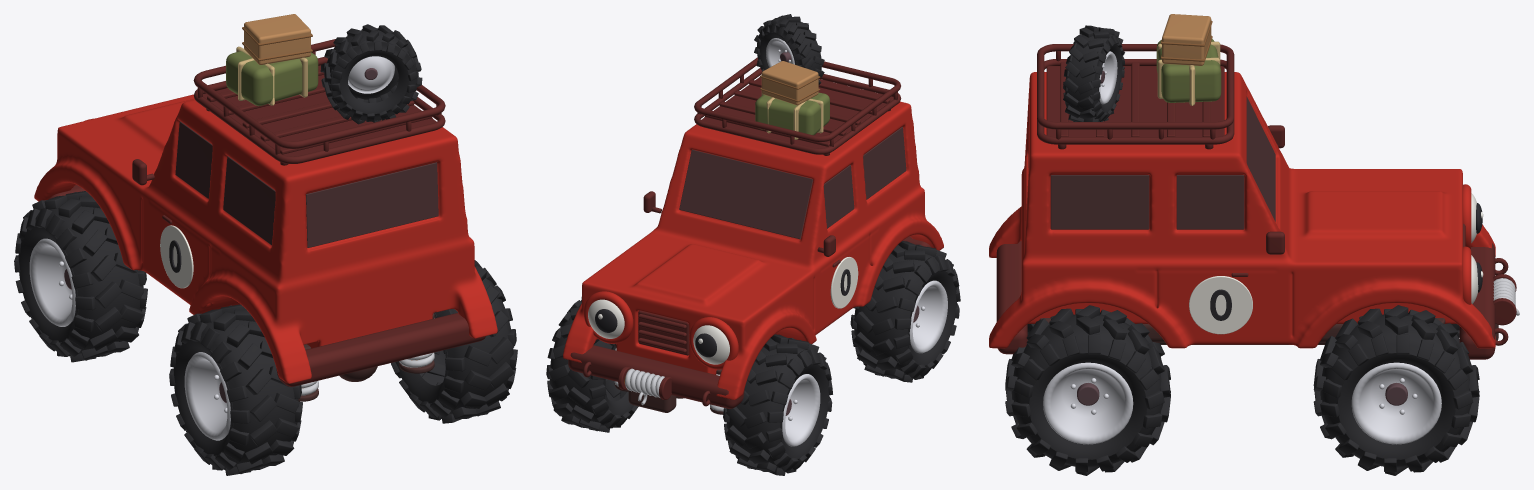
The model's file is red_jeep.glb.
The picture shows the model from 3 angles, left to right: view 1: azimuth 30°, elevation 25°; view 2: azimuth 150°, elevation 25°; view 3: azimuth 270°, elevation 25°; orthographic projection. The views are drawn at different scales.
Parts seen in each view (by area): view 1: car_hero_body.001, car_hero_wheel_FR.001, car_hero_wheel_RR.001, car_hero_wheel_RL.001, window_rear.001, cargo_spare.001, bumper_rear.001, rack_floor.001, cargo_bag.001, car_hero_wheel_FR_rim.001, car_hero_wheel_RR_rim.001, rack_rail_top.001 (+8 smaller); view 2: car_hero_body.001, car_hero_wheel_RR.001, car_hero_wheel_FR.001, windshield.001, car_hero_wheel_FL.001, bumper_front.001, rack_floor.001, rack_rail_top.001, rack_rail_low.001, cargo_spare.001, cargo_bag.001, car_hero_wheel_FR_rim.001 (+13 smaller); view 3: car_hero_body.001, car_hero_wheel_FL.001, car_hero_wheel_RL.001, window_1_-1.001, car_hero_wheel_FL_rim.001, car_hero_wheel_RL_rim.001, rack_floor.001, cargo_spare.001, window_1_-0.001, rack_rail_top.001, decal_disc_1.001, cargo_bag.001 (+7 smaller).
Boxes of the visible parts, left/top/right/bottom form: car_hero_body.001: left=34, top=94, right=497, bottom=383; car_hero_wheel_FR.001: left=14, top=191, right=147, bottom=362; car_hero_wheel_RR.001: left=169, top=304, right=302, bottom=475; car_hero_wheel_RL.001: left=391, top=260, right=517, bottom=423; window_rear.001: left=306, top=162, right=438, bottom=247; cargo_spare.001: left=320, top=24, right=422, bottom=124; bumper_rear.001: left=276, top=313, right=485, bottom=386; rack_floor.001: left=203, top=65, right=436, bottom=156; cargo_bag.001: left=226, top=51, right=318, bottom=106; car_hero_wheel_FR_rim.001: left=29, top=238, right=75, bottom=326; car_hero_wheel_RR_rim.001: left=184, top=352, right=230, bottom=440; rack_rail_top.001: left=193, top=39, right=445, bottom=148; car_hero_body.001: left=563, top=101, right=943, bottom=399; car_hero_wheel_RR.001: left=850, top=241, right=960, bottom=382; car_hero_wheel_FR.001: left=723, top=334, right=832, bottom=475; windshield.001: left=679, top=149, right=812, bottom=239; car_hero_wheel_FL.001: left=546, top=297, right=638, bottom=432; bumper_front.001: left=568, top=345, right=744, bottom=408; rack_floor.001: left=701, top=77, right=893, bottom=148; rack_rail_top.001: left=694, top=57, right=900, bottom=142; rack_rail_low.001: left=694, top=67, right=901, bottom=154; cargo_spare.001: left=754, top=14, right=824, bottom=84; cargo_bag.001: left=755, top=92, right=829, bottom=135; car_hero_wheel_FR_rim.001: left=782, top=374, right=820, bottom=446; car_hero_body.001: left=989, top=72, right=1495, bottom=348; car_hero_wheel_FL.001: left=1313, top=305, right=1479, bottom=475; car_hero_wheel_RL.001: left=1005, top=305, right=1170, bottom=475; window_1_-1.001: left=1050, top=175, right=1149, bottom=229; car_hero_wheel_FL_rim.001: left=1351, top=362, right=1441, bottom=444; car_hero_wheel_RL_rim.001: left=1043, top=362, right=1133, bottom=444; rack_floor.001: left=1046, top=66, right=1224, bottom=136; cargo_spare.001: left=1063, top=25, right=1124, bottom=121; window_1_-0.001: left=1176, top=175, right=1244, bottom=229; rack_rail_top.001: left=1037, top=44, right=1234, bottom=129; decal_disc_1.001: left=1189, top=276, right=1252, bottom=334; cargo_bag.001: left=1156, top=39, right=1221, bottom=102.
Size of the model in its own units: 2.77 by 3.69 by 4.47.
